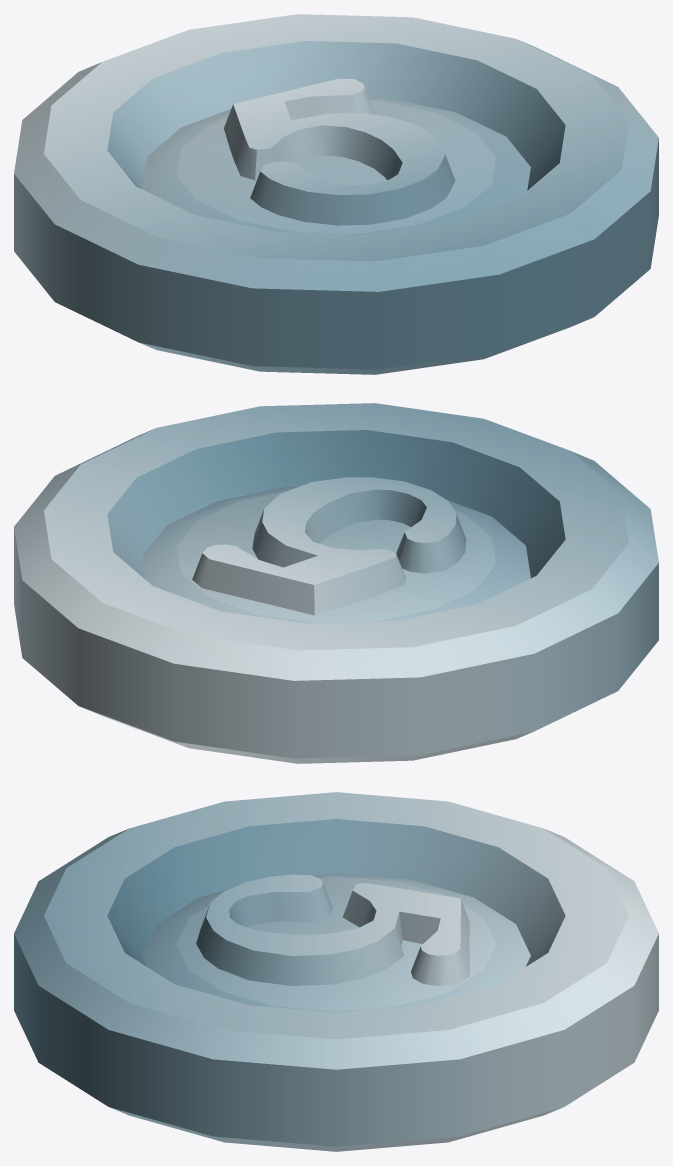
File: coin_5_silver.obj
The picture shows the model from 3 angles, top to bottom: view 1: azimuth 30°, elevation 25°; view 2: azimuth 150°, elevation 25°; view 3: azimuth 270°, elevation 25°; orthographic projection.
Visible parts, largest first — view 1: coin_5_silver; view 2: coin_5_silver; view 3: coin_5_silver.
Boxes of the visible parts, <box> form: coin_5_silver: <box>14,14,658,374</box>; coin_5_silver: <box>14,403,658,763</box>; coin_5_silver: <box>14,792,658,1151</box>.
Size of the model in its own units: 1.04 by 0.2 by 1.04.
1 material, 1 textured.
